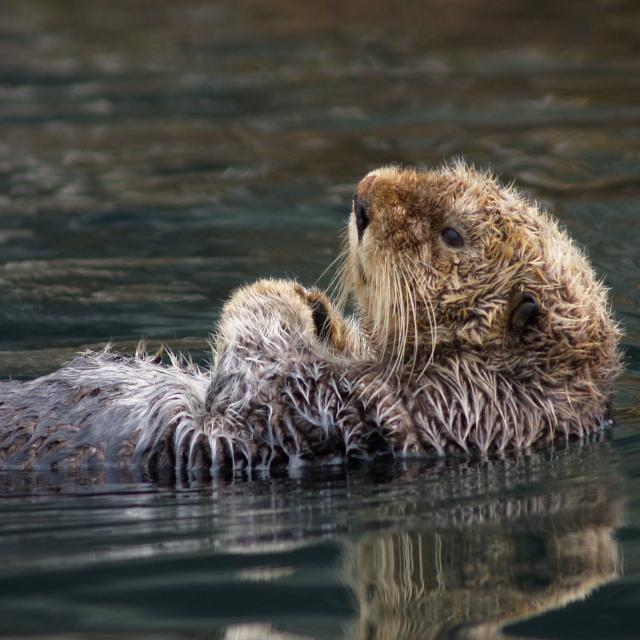otter: (1, 166, 619, 466)
